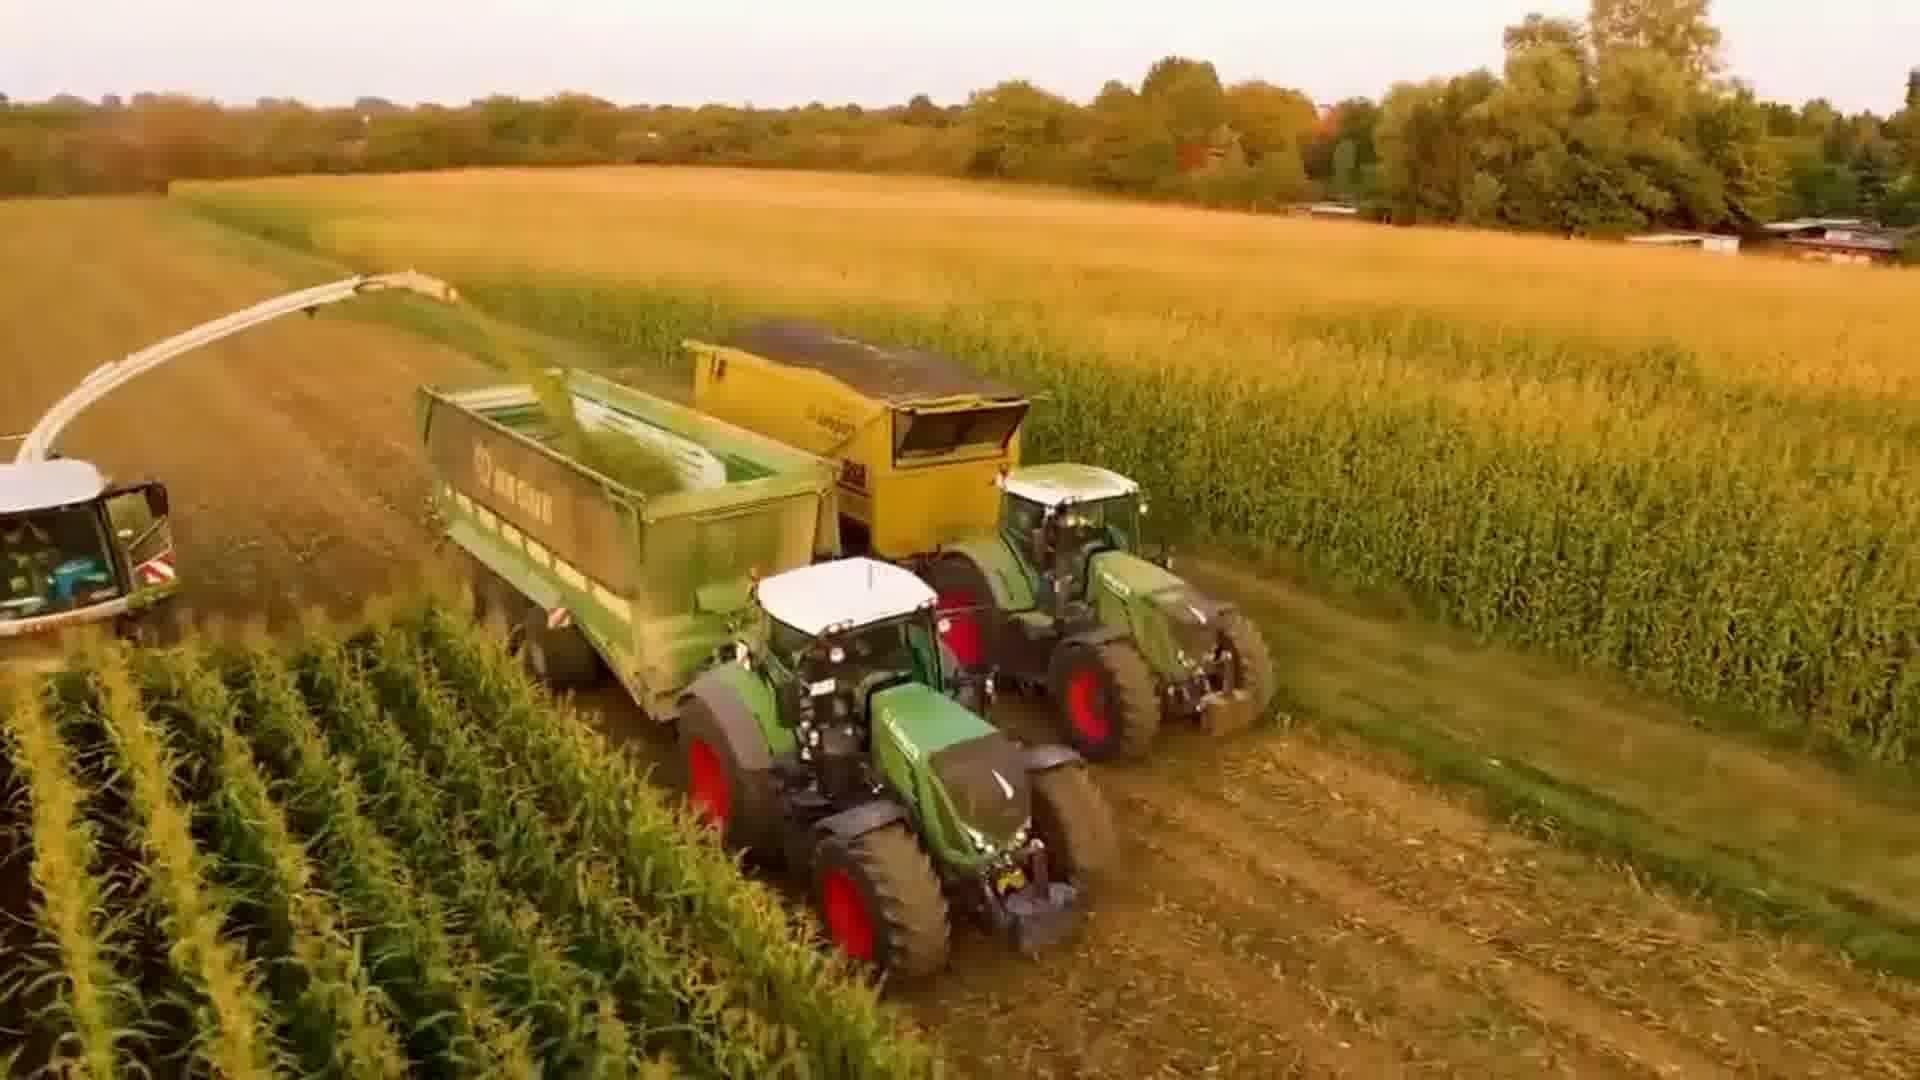combine harvester: (0, 261, 464, 694)
tractor: (670, 551, 1131, 997), (916, 456, 1284, 764)
trailer: (409, 349, 856, 707), (678, 311, 1035, 559)
